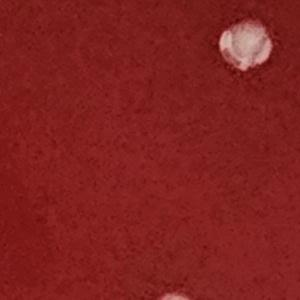colony: (218, 14, 276, 73), (154, 280, 197, 300)
